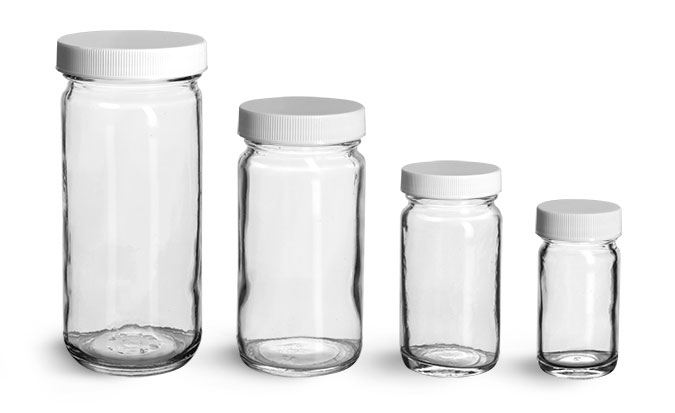glass: (53, 26, 626, 386)
